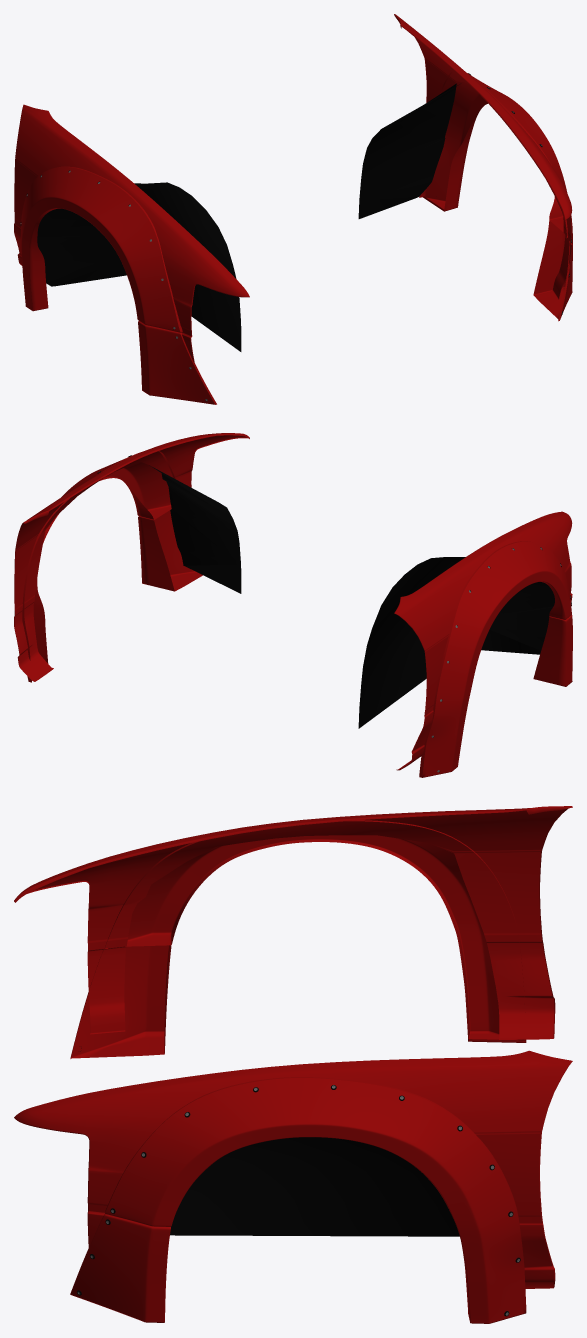
File: frontfenders_rocketbunnyv1.glb
The picture shows the model from 3 angles, top to bottom: view 1: azimuth 30°, elevation 25°; view 2: azimuth 150°, elevation 25°; view 3: azimuth 270°, elevation 25°; orthographic projection. The views are drawn at different scales.
Visible parts, largest first — view 1: Undercarriage, Extensions, Fenders, Extensions 2; view 2: Undercarriage, Extensions, Fenders, Extensions 2; view 3: Fenders, Extensions, Undercarriage, Extensions 2.
Boxes of the visible parts, x1,y1,x2,y2 form: Undercarriage: [37, 83, 459, 351]; Extensions: [21, 70, 571, 332]; Fenders: [14, 14, 572, 363]; Extensions 2: [138, 220, 572, 404]; Undercarriage: [149, 465, 554, 728]; Extensions: [22, 451, 571, 777]; Fenders: [14, 433, 572, 770]; Extensions 2: [138, 510, 572, 686]; Fenders: [14, 806, 572, 1288]; Extensions: [105, 820, 526, 1323]; Undercarriage: [170, 1137, 459, 1236]; Extensions 2: [70, 945, 171, 1322].
Size of the model in its own units: 1.81 by 0.692 by 1.41.
